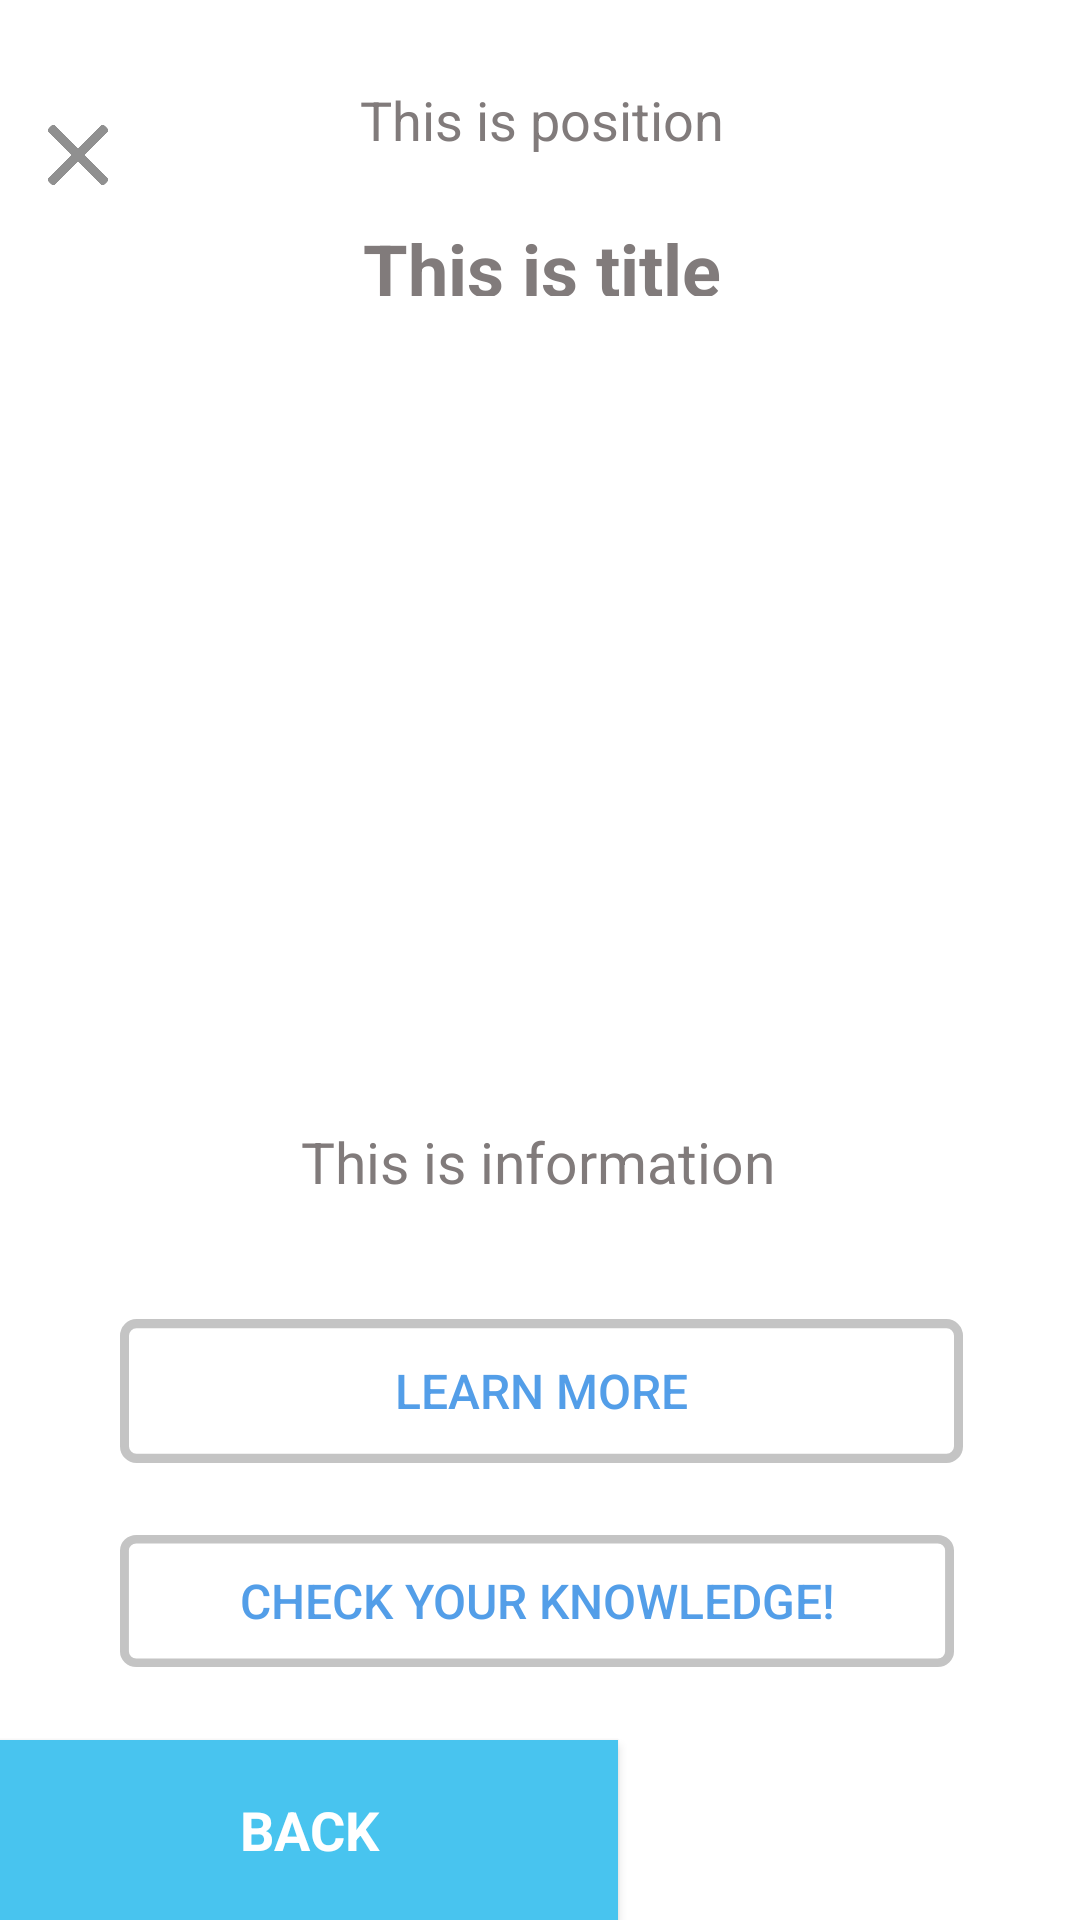

Named icons in this screenshot (1080×1920) and their centers, point (x, y):
cancel: point (78, 155)
